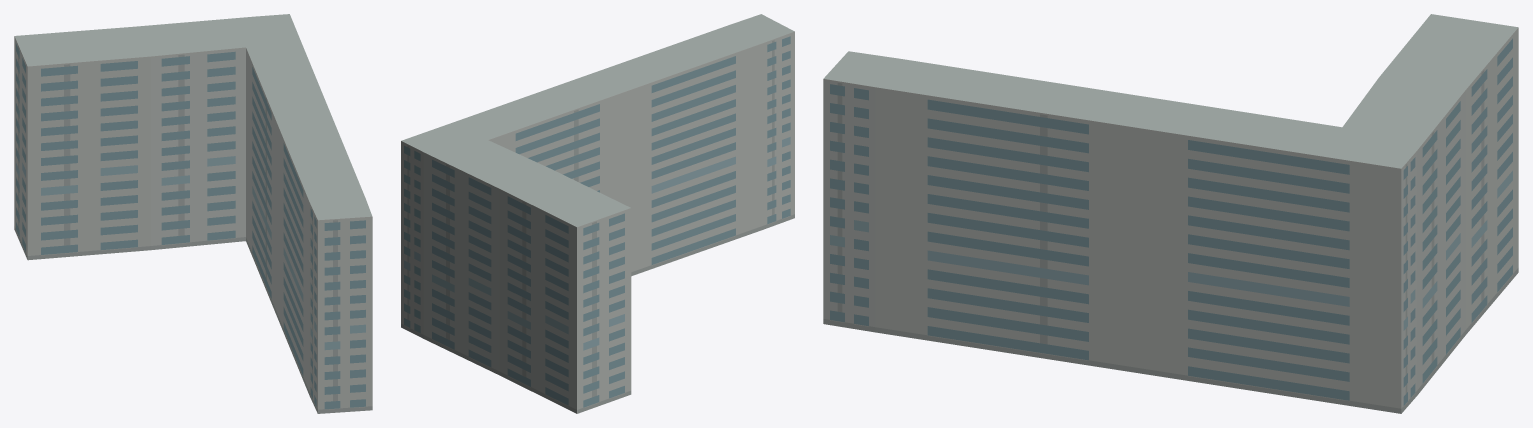
The model's file is residential-30eb6713-9323-4b9f-b453-c0caeb5f7d5e.glb.
3 views of the same model, side by side, from view 1: azimuth 30°, elevation 25°; view 2: azimuth 150°, elevation 25°; view 3: azimuth 270°, elevation 25° (orthographic). The views are drawn at different scales.
Visible parts, largest first — view 1: residential-30eb6713-9323-4b9f-b453-c0caeb5f7d5e.tmp; view 2: residential-30eb6713-9323-4b9f-b453-c0caeb5f7d5e.tmp; view 3: residential-30eb6713-9323-4b9f-b453-c0caeb5f7d5e.tmp.
Boxes of the visible parts, bbox=[...] form: residential-30eb6713-9323-4b9f-b453-c0caeb5f7d5e.tmp: bbox=[14, 14, 372, 413]; residential-30eb6713-9323-4b9f-b453-c0caeb5f7d5e.tmp: bbox=[401, 14, 794, 413]; residential-30eb6713-9323-4b9f-b453-c0caeb5f7d5e.tmp: bbox=[823, 14, 1518, 413].
Bounding box in the file's own units: 53.67 × 39.65 × 102.
